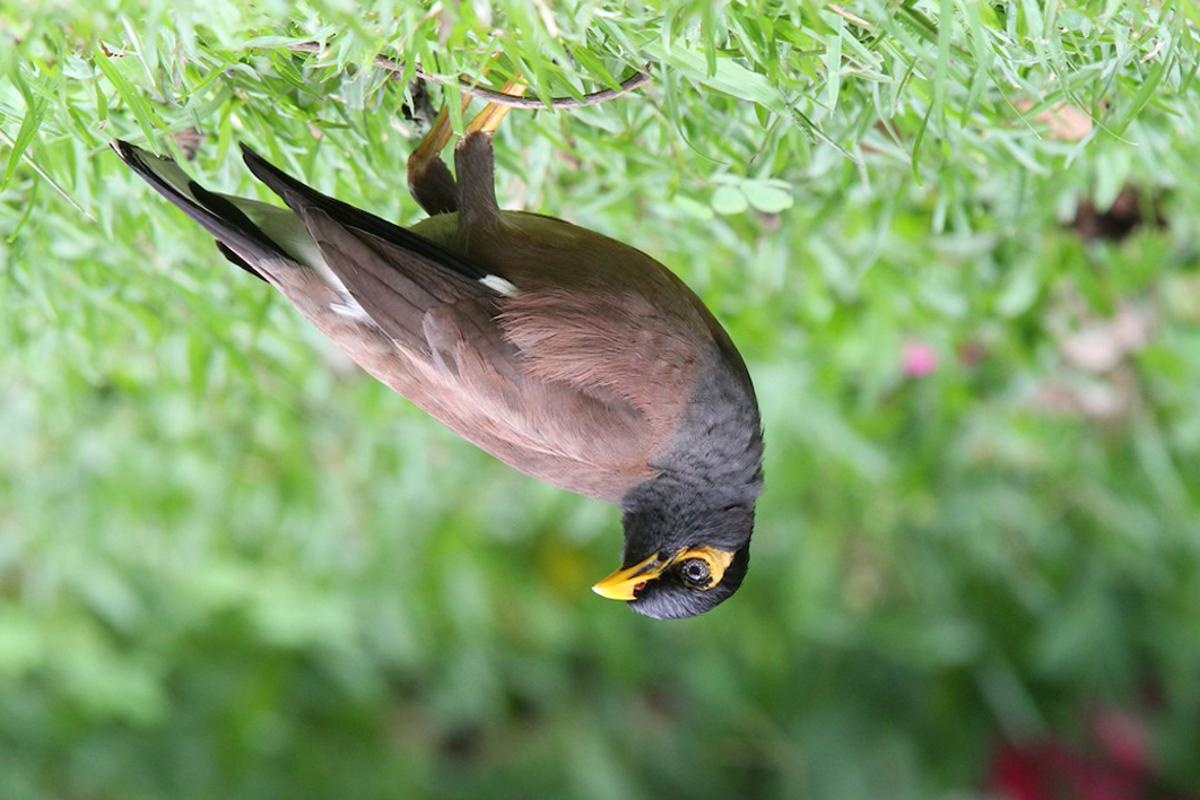myna: (233, 53, 787, 610)
